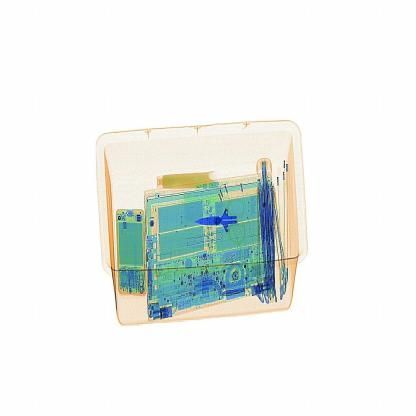gun: (184, 203, 262, 243)
